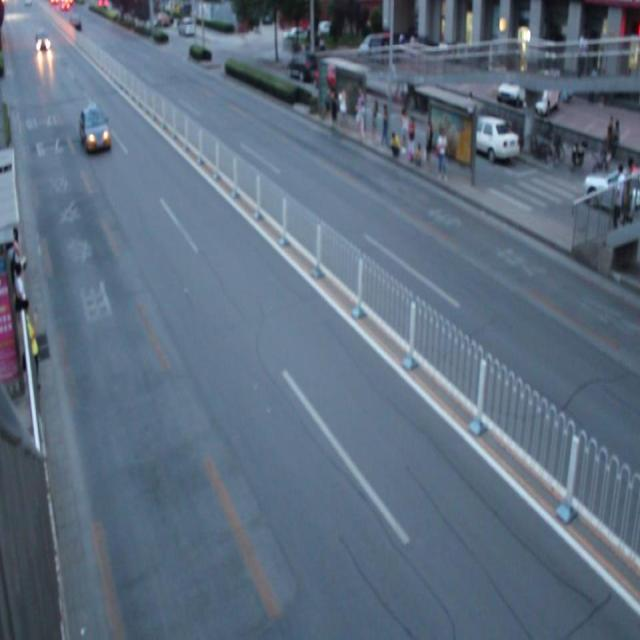car: (79, 102, 112, 158)
